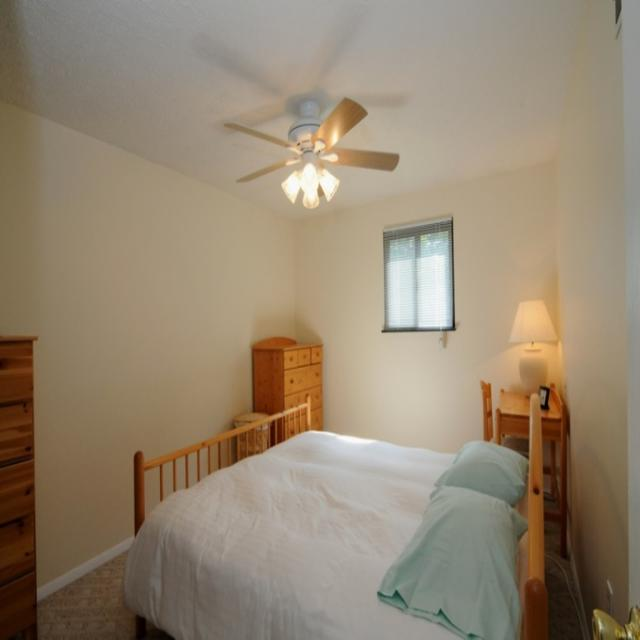Bulb: (222, 95, 396, 209)
